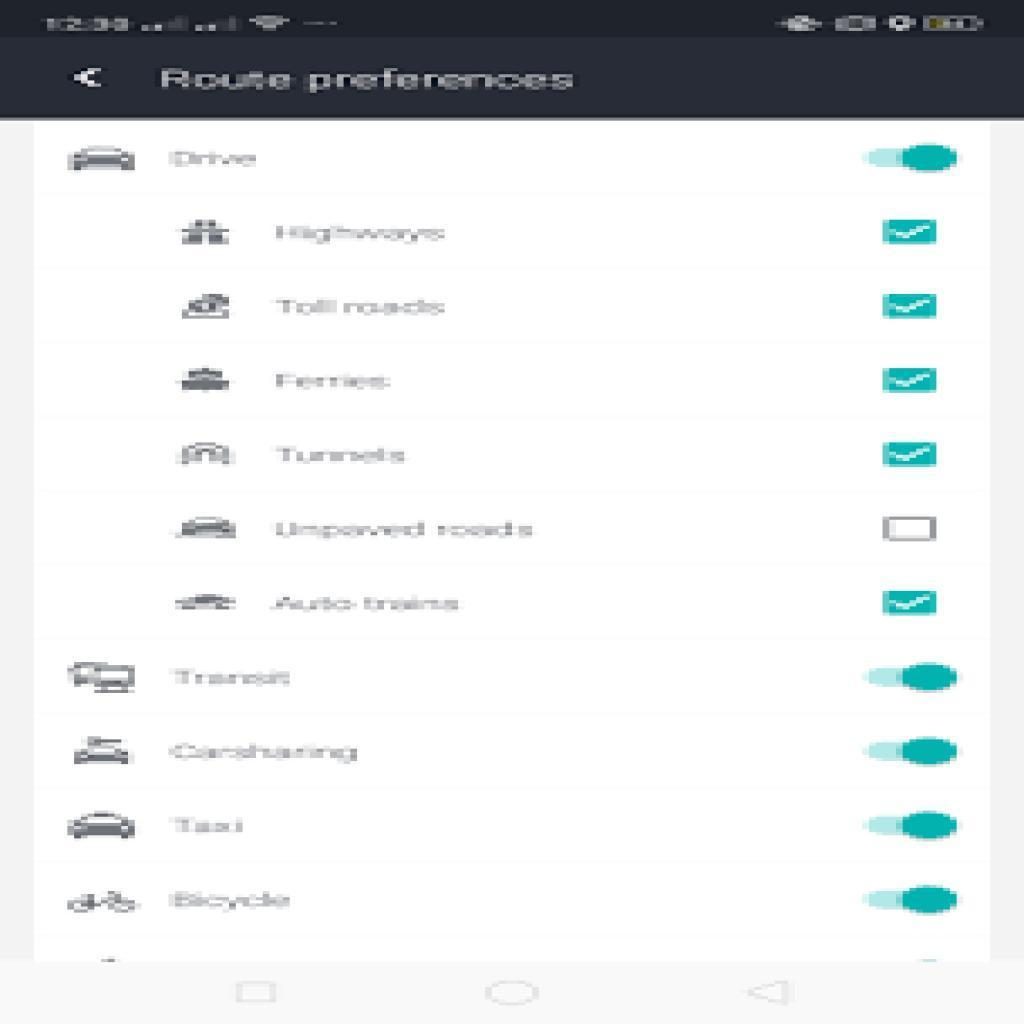checkbox: (883, 219, 938, 247), (884, 517, 937, 543), (883, 294, 938, 319), (883, 443, 936, 468), (884, 369, 937, 393), (885, 593, 937, 615)
icon: (63, 655, 143, 698), (69, 139, 140, 180), (67, 806, 140, 845), (179, 214, 237, 254), (74, 733, 133, 771), (180, 284, 233, 326), (175, 434, 235, 471), (178, 513, 241, 548), (68, 889, 140, 919), (173, 588, 244, 617), (177, 363, 235, 397), (69, 66, 108, 92)
label: (161, 66, 575, 97), (274, 513, 539, 549), (166, 736, 363, 768), (272, 592, 464, 619), (274, 222, 453, 250), (277, 297, 452, 320), (168, 889, 298, 917), (275, 444, 409, 468), (175, 667, 292, 693), (274, 372, 396, 396), (172, 150, 263, 171), (170, 813, 248, 835)
switch: (860, 885, 962, 919), (862, 810, 962, 844), (862, 661, 959, 696), (862, 737, 958, 768), (864, 145, 958, 176)
